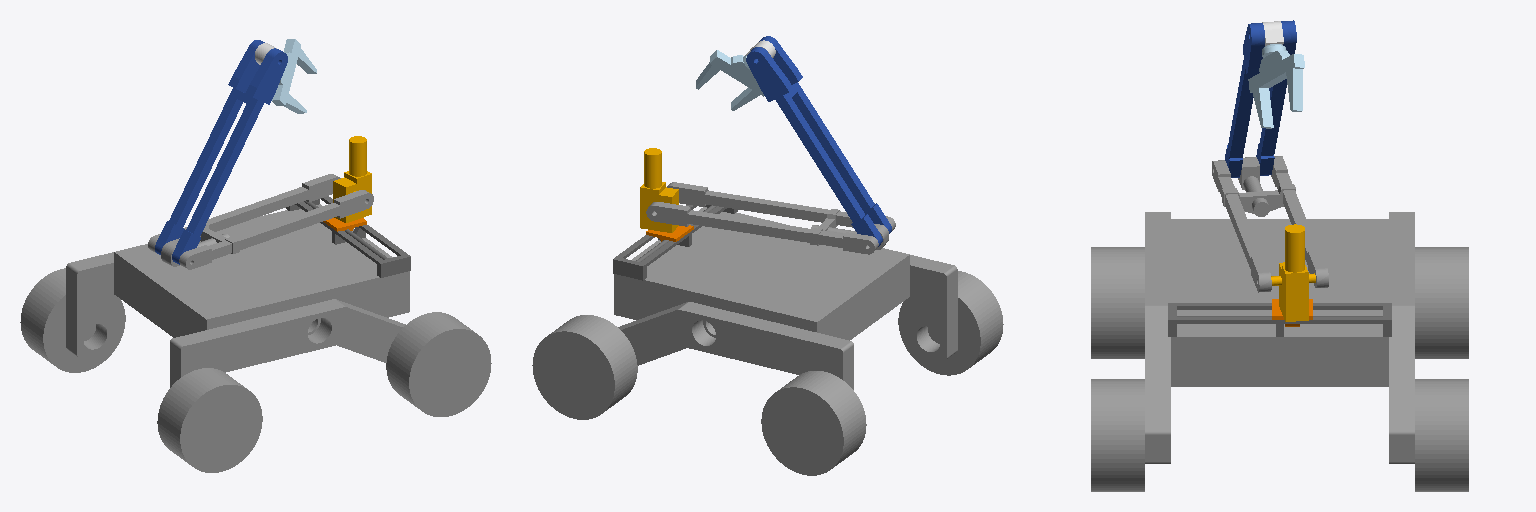
URDF robot description (rover):
<robot name="rover">
<link name="poignet_rot_urdf">
<visual>
<origin xyz="-0.78000609755862848615 -0.22093530111639561597 1.7763570358652658321" rpy="2.7510702591549653917 -0.65618023247987666835 0.76015540746668530669" />
<geometry>
<mesh filename="package://rover_sim/poignet_rot_urdf.stl"/>
</geometry>
<material name="poignet_rot_urdf_material">
<color rgba="0.76862745098039220171 0.88627450980392152857 0.95294117647058818044 1.0"/>
</material>
</visual>
<collision>
<origin xyz="-0.78000609755862848615 -0.22093530111639561597 1.7763570358652658321" rpy="2.7510702591549653917 -0.65618023247987666835 0.76015540746668530669" />
<geometry>
<mesh filename="package://rover_sim/poignet_rot_urdf.stl"/>
</geometry>
</collision>
<inertial>
<origin xyz="0.18568151878455618764 -0.058573638033918379309 0.72215971467293815778" rpy="0 0 0"/>
<mass value="0.48250317769047762484" />
<inertia ixx="0.0014419242204060920588" ixy="-0.00049193200999420711415"  ixz="-0.00010234399249165544894" iyy="0.0018254648587159153818" iyz="-0.00039602771039032666359" izz="0.0013161944082022366837" />
</inertial>
</link>

<link name="poignet_ud_urdf">
<visual>
<origin xyz="-4.1633363423443370266e-17 -1.1102230246251565404e-16 -1.3666500000000003645" rpy="-5.5511151231257827021e-17 -1.2046485339505775772e-17 3.1911543562161941557e-17" />
<geometry>
<mesh filename="package://rover_sim/poignet_ud_urdf.stl"/>
</geometry>
<material name="poignet_ud_urdf_material">
<color rgba="0.91764705882352937127 0.91764705882352937127 0.91764705882352937127 1.0"/>
</material>
</visual>
<collision>
<origin xyz="-4.1633363423443370266e-17 -1.1102230246251565404e-16 -1.3666500000000003645" rpy="-5.5511151231257827021e-17 -1.2046485339505775772e-17 3.1911543562161941557e-17" />
<geometry>
<mesh filename="package://rover_sim/poignet_ud_urdf.stl"/>
</geometry>
</collision>
<inertial>
<origin xyz="-4.3555518886215181252e-17 -1.09391407585606588e-16 -0.028463754227230131377" rpy="0 0 0"/>
<mass value="0.25422798910091382041" />
<inertia ixx="0.00015018464899557086405" ixy="5.709005846885429683e-21"  ixz="1.604683817828446692e-21" iyy="0.0001141877223563912111" iyz="-6.3386919244785128792e-21" izz="0.0001195825672440762222" />
</inertial>
</link>

<link name="j2_urdf">
<visual>
<origin xyz="-5.5511151231257827021e-17 1.335650000000000226 0.021999999999999964029" rpy="1.570796326794896558 1.570796326794896558 0" />
<geometry>
<mesh filename="package://rover_sim/j2_urdf.stl"/>
</geometry>
<material name="j2_urdf_material">
<color rgba="0.2313725490196078538 0.38039215686274507888 0.7058823529411765163 1.0"/>
</material>
</visual>
<collision>
<origin xyz="-5.5511151231257827021e-17 1.335650000000000226 0.021999999999999964029" rpy="1.570796326794896558 1.570796326794896558 0" />
<geometry>
<mesh filename="package://rover_sim/j2_urdf.stl"/>
</geometry>
</collision>
<inertial>
<origin xyz="-1.9946375013304741282e-16 0.26792712138606145089 0.021999999999999981376" rpy="0 0 0"/>
<mass value="1.903643385227656637" />
<inertia ixx="0.084156005789429458308" ixy="9.7160459189110620382e-18"  ixz="7.2458912446870535169e-20" iyy="0.0033583557704155351208" iyz="-1.8139057619188812342e-18" izz="0.081582320035469363395" />
</inertial>
</link>

<link name="j1_urdf">
<visual>
<origin xyz="5.5511151231257827021e-17 0.71065000000000000391 -0.021999999999999991784" rpy="1.570796326794896558 1.570796326794896558 0" />
<geometry>
<mesh filename="package://rover_sim/j1_urdf.stl"/>
</geometry>
<material name="j1_urdf_material">
<color rgba="0.64705882352941179736 0.64705882352941179736 0.64705882352941179736 1.0"/>
</material>
</visual>
<collision>
<origin xyz="5.5511151231257827021e-17 0.71065000000000000391 -0.021999999999999991784" rpy="1.570796326794896558 1.570796326794896558 0" />
<geometry>
<mesh filename="package://rover_sim/j1_urdf.stl"/>
</geometry>
</collision>
<inertial>
<origin xyz="-0.0032239444370048002571 0.27551528650398610099 -0.021999999999999991784" rpy="0 0 0"/>
<mass value="3.5446627968758868121" />
<inertia ixx="0.1786877198611700468" ixy="-0.0018243125395202973871"  ixz="5.078484019190950173e-23" iyy="0.014501353769987028811" iyz="-4.5934108025700569437e-18" izz="0.16547747611338786689" />
</inertial>
</link>

<link name="j0_urdf">
<visual>
<origin xyz="0 -0.060650000000000009459 -0.055250000000000007438" rpy="-1.570796326794896558 -1.570796326794896558 0" />
<geometry>
<mesh filename="package://rover_sim/j0_urdf.stl"/>
</geometry>
<material name="j0_urdf_material">
<color rgba="0.98039215686274505668 0.71372549019607844922 0.0039215686274509803377 1.0"/>
</material>
</visual>
<collision>
<origin xyz="0 -0.060650000000000009459 -0.055250000000000007438" rpy="-1.570796326794896558 -1.570796326794896558 0" />
<geometry>
<mesh filename="package://rover_sim/j0_urdf.stl"/>
</geometry>
</collision>
<inertial>
<origin xyz="0.02195778785631362709 0.0088785262004007908798 -0.055250000000000007438" rpy="0 0 0"/>
<mass value="3.9360055793372801247" />
<inertia ixx="0.015757672092816053799" ixy="-0.0018060990321288417169"  ixz="-4.8427639073108541176e-19" iyy="0.0037724496376596579165" iyz="2.1810272983649002935e-33" izz="0.017447895782726697417" />
</inertial>
</link>

<link name="jlin_urdf">
<visual>
<origin xyz="0 0 0.020850000000000007416" rpy="0 -0 -3.490051078304070176e-47" />
<geometry>
<mesh filename="package://rover_sim/jlin_urdf.stl"/>
</geometry>
<material name="jlin_urdf_material">
<color rgba="0.97254901960784312376 0.52941176470588235947 0.0039215686274509803377 1.0"/>
</material>
</visual>
<collision>
<origin xyz="0 0 0.020850000000000007416" rpy="0 -0 -3.490051078304070176e-47" />
<geometry>
<mesh filename="package://rover_sim/jlin_urdf.stl"/>
</geometry>
</collision>
<inertial>
<origin xyz="5.7057666194802135425e-18 0.016762797536052958386 -0.012676765453219683566" rpy="0 0 0"/>
<mass value="0.57976963990118524084" />
<inertia ixx="0.00045328181703953513478" ixy="-9.7300324602490434375e-36"  ixz="7.6463116774713003804e-38" iyy="0.000432021455082067993" iyz="-3.3950253613312340218e-06" izz="0.00071404810579741673053" />
</inertial>
</link>

<link name="base_urdf">
<visual>
<origin xyz="-0.016000000000000014211 -0.052850000000000008082 0" rpy="1.570796326794896558 1.570796326794896558 0" />
<geometry>
<mesh filename="package://rover_sim/base_urdf.stl"/>
</geometry>
<material name="base_urdf_material">
<color rgba="0.49803921568627451677 0.49803921568627451677 0.49803921568627451677 1.0"/>
</material>
</visual>
<collision>
<origin xyz="-0.016000000000000014211 -0.052850000000000008082 0" rpy="1.570796326794896558 1.570796326794896558 0" />
<geometry>
<mesh filename="package://rover_sim/base_urdf.stl"/>
</geometry>
</collision>
<visual>
<origin xyz="-0.071283110000000149409 0.27533012000000034458 -0.45644999999999985585" rpy="-1.570796326794896558 6.6560138878025349628e-31 -3.1415926535897922278" />
<geometry>
<mesh filename="package://rover_sim/base.stl"/>
</geometry>
<material name="base_material">
<color rgba="0.64705882352941179736 0.64705882352941179736 0.64705882352941179736 1.0"/>
</material>
</visual>
<collision>
<origin xyz="-0.071283110000000149409 0.27533012000000034458 -0.45644999999999985585" rpy="-1.570796326794896558 6.6560138878025349628e-31 -3.1415926535897922278" />
<geometry>
<mesh filename="package://rover_sim/base.stl"/>
</geometry>
</collision>
<inertial>
<origin xyz="0.3039892424066643617 0.16201320073831901314 -8.673639417747707868e-20" rpy="0 0 0"/>
<mass value="703.12321350783201979" />
<inertia ixx="61.444137261695992436" ixy="-0.061802865570381899929"  ixz="5.1404617002102610157e-15" iyy="111.09797045647874825" iyz="6.3498444462204189407e-15" izz="63.968571228990157351" />
</inertial>
</link>

<joint name="base_lin" type="prismatic">
<origin xyz="-0.030475478866928244759 0.015999999999999459099 -0.031999999999999889644" rpy="-1.5707963267948972241 -7.4246164771810213122e-16 1.5707963267948958919" />
<parent link="jlin_urdf" />
<child link="base_urdf" />
<axis xyz="0 0 1"/>
<limit effort="1" velocity="20" lower="-0.23250000000000001221" upper="0.23250000000000001221"/>
<joint_properties friction="0.0"/>
</joint>

<joint name="J0" type="revolute">
<origin xyz="0 -0.081500000000000016875 -0.055250000000000007438" rpy="-1.570796326794896558 1.4042235959233375642 -6.1196811644548272158e-17" />
<parent link="j0_urdf" />
<child link="jlin_urdf" />
<axis xyz="0 0 1"/>
<limit effort="1" velocity="20" lower="-3.141592653589793116" upper="3.141592653589793116"/>
<joint_properties friction="0.0"/>
</joint>

<joint name="J1" type="revolute">
<origin xyz="5.5511151231257827021e-17 0.6500000000000000222 -0.077249999999999985345" rpy="3.1415926535897913396 4.5796699765788054391e-15 1.5708019391319063551" />
<parent link="j1_urdf" />
<child link="j0_urdf" />
<axis xyz="0 0 1"/>
<limit effort="1" velocity="20" lower="-3.141592653589793116" upper="3.141592653589793116"/>
<joint_properties friction="0.0"/>
</joint>

<joint name="J2" type="revolute">
<origin xyz="-5.5511151231257827021e-17 0.625 0.043999999999999969691" rpy="9.2703677178582533106e-15 2.9033507699963287332e-16 -2.1679974831754251774" />
<parent link="j2_urdf" />
<child link="j1_urdf" />
<axis xyz="0 0 1"/>
<limit effort="1" velocity="20" lower="-3.141592653589793116" upper="3.141592653589793116"/>
<joint_properties friction="0.0"/>
</joint>

<joint name="poignet_ud" type="revolute">
<origin xyz="0.021999999999999991784 0 -0.031000000000000138556" rpy="1.5707963267948950037 -1.3457487744925549222 -1.5707963267948812369" />
<parent link="poignet_ud_urdf" />
<child link="j2_urdf" />
<axis xyz="0 0 1"/>
<limit effort="1" velocity="20" lower="-3.141592653589793116" upper="3.141592653589793116"/>
<joint_properties friction="0.0"/>
</joint>

<joint name="poignet_gd" type="revolute">
<origin xyz="0.13723394118771259365 -0.066719159564708613308 0.77504773524655989902" rpy="-2.3930394231407654537 -3.8132505453947008231e-16 -1.404223595923336898" />
<parent link="poignet_rot_urdf" />
<child link="poignet_ud_urdf" />
<axis xyz="0 0 1"/>
<limit effort="1" velocity="20" lower="-3.141592653589793116" upper="3.141592653589793116"/>
<joint_properties friction="0.0"/>
</joint>


</robot>

--- Render facts (derived) ---
3 views of the same robot in one strip: view 1: azimuth 30°, elevation 25°; view 2: azimuth 150°, elevation 25°; view 3: azimuth 270°, elevation 25° (orthographic).
Robot: rover — 7 links, 6 joints (5 revolute, 1 prismatic); root link poignet_rot_urdf; default pose: all joints at 0.
Links seen in each view (by area): view 1: base_urdf, j2_urdf, j1_urdf, j0_urdf, poignet_rot_urdf; view 2: base_urdf, j2_urdf, j1_urdf, j0_urdf, poignet_rot_urdf; view 3: base_urdf, j1_urdf, j2_urdf, poignet_rot_urdf, j0_urdf.
Boxes of the visible links, x1,y1,x2,y2 form: base_urdf: (20,196,491,472); j2_urdf: (155,40,287,264); j1_urdf: (148,174,373,269); j0_urdf: (333,136,371,222); poignet_rot_urdf: (272,39,316,113); base_urdf: (532,190,1003,475); j2_urdf: (746,36,891,246); j1_urdf: (646,182,895,254); j0_urdf: (640,148,678,232); poignet_rot_urdf: (696,50,763,110); base_urdf: (1091,212,1468,491); j1_urdf: (1212,156,1328,292); j2_urdf: (1225,20,1296,177); poignet_rot_urdf: (1248,44,1304,128); j0_urdf: (1271,224,1315,321).
Size in the robot's own frame: 1.03 by 0.9129 by 1.07 metres.
Meshes: 8 distinct files referenced, 8 mesh visuals loaded (8 binary STL).
